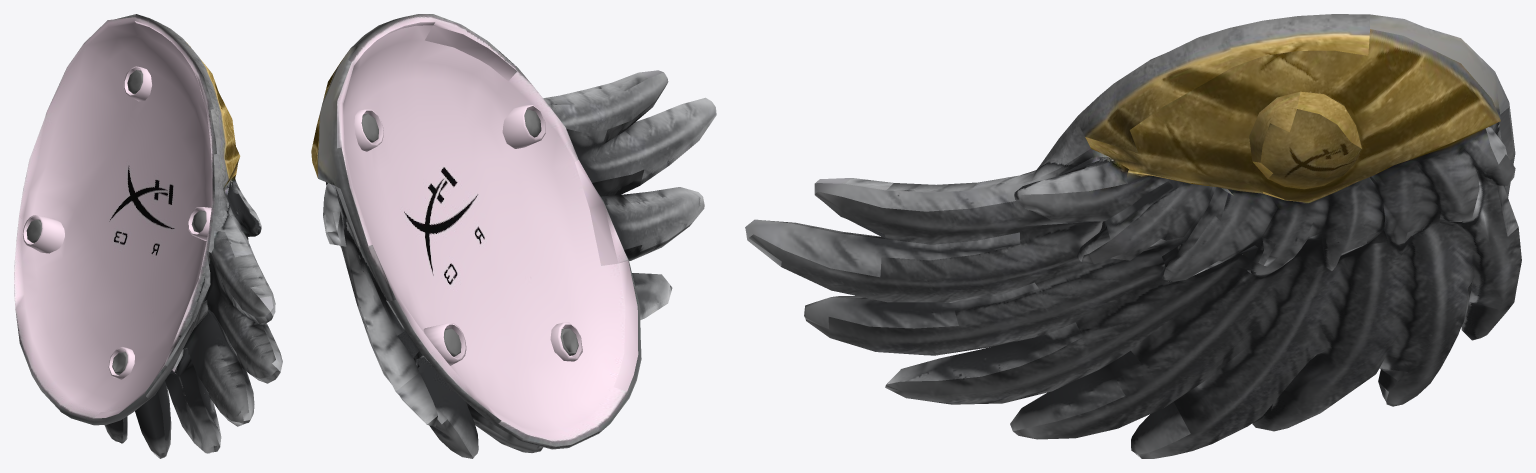
The model's file is valkyrie-R.glb.
3 views of the same model, side by side, from view 1: azimuth 30°, elevation 25°; view 2: azimuth 150°, elevation 25°; view 3: azimuth 270°, elevation 25° (orthographic). The views are drawn at different scales.
Parts seen in each view (by area): view 1: valkyrie.003; view 2: valkyrie.003; view 3: valkyrie.003.
Part boxes in pixels (x1=…): valkyrie.003: x1=14, y1=14, x2=282, y2=458; valkyrie.003: x1=311, y1=14, x2=716, y2=458; valkyrie.003: x1=745, y1=14, x2=1521, y2=458.
Bounding box in the file's own units: 0.0425 × 0.0778 × 0.105.
Materials: 3 (3 with a texture image).
